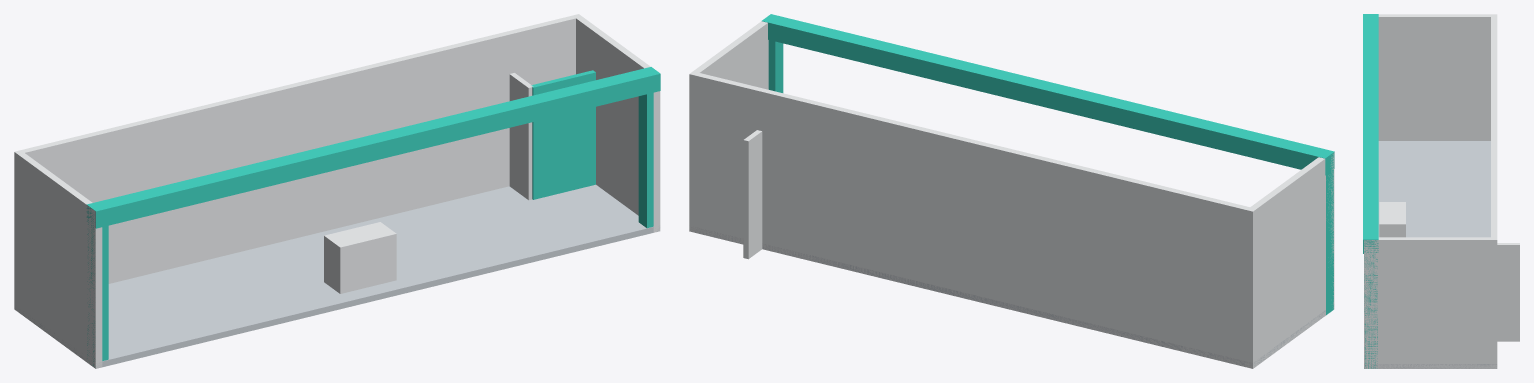
3 views of the same model, side by side, from view 1: azimuth 30°, elevation 25°; view 2: azimuth 150°, elevation 25°; view 3: azimuth 270°, elevation 25° (orthographic). The views are drawn at different scales.
Visible parts, largest first — view 1: Exhibition Booth Concept; view 2: Exhibition Booth Concept; view 3: Exhibition Booth Concept.
Boxes of the visible parts, x1,y1,x2,y2 form: Exhibition Booth Concept: [14, 14, 660, 368]; Exhibition Booth Concept: [689, 14, 1334, 368]; Exhibition Booth Concept: [1363, 14, 1519, 368].
Size of the model in its own units: 12 by 3.2 by 3.52.
